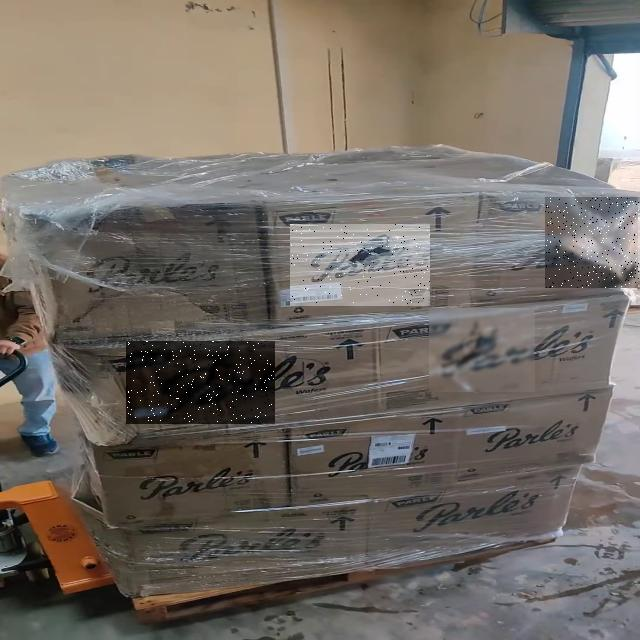squeeze: (545, 197, 639, 288)
tear: (127, 341, 274, 423), (290, 225, 430, 304), (430, 308, 534, 392)
